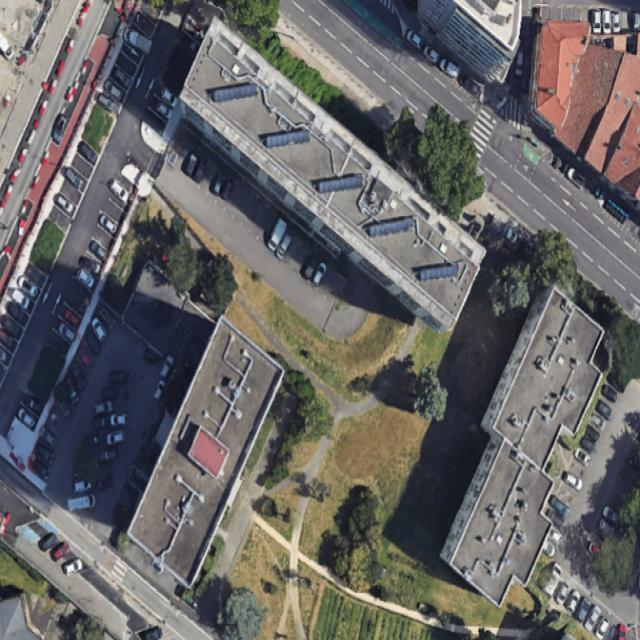immeuble: (147, 16, 502, 346), (110, 317, 301, 589), (471, 283, 627, 476), (430, 432, 576, 614)
